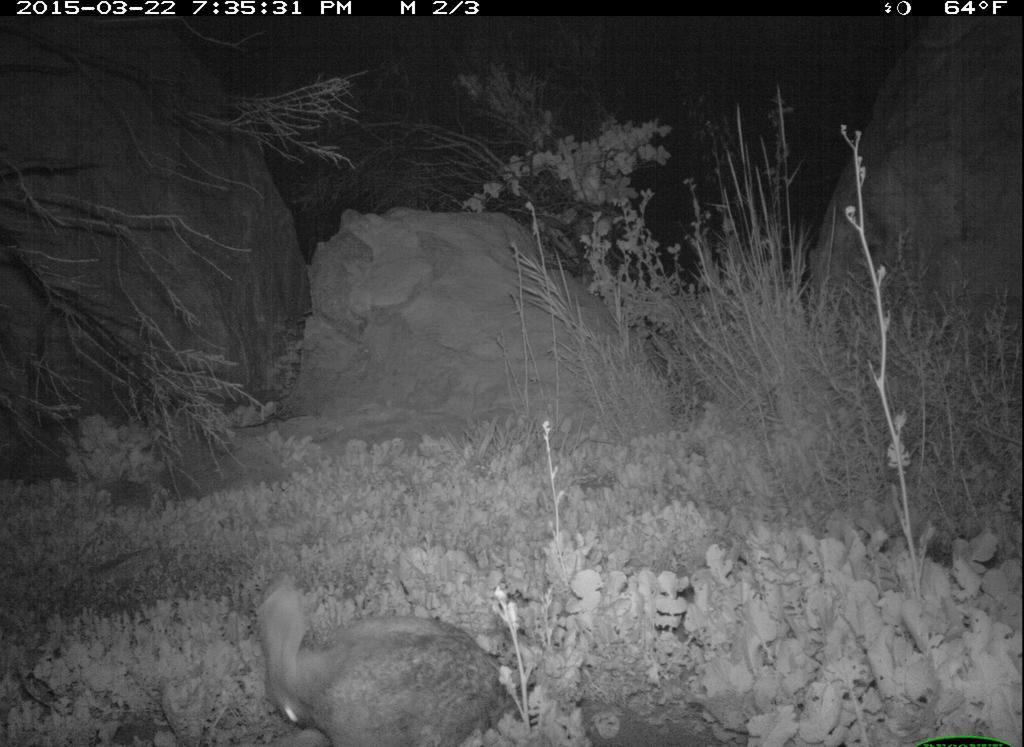rabbit: (241, 575, 530, 747)
